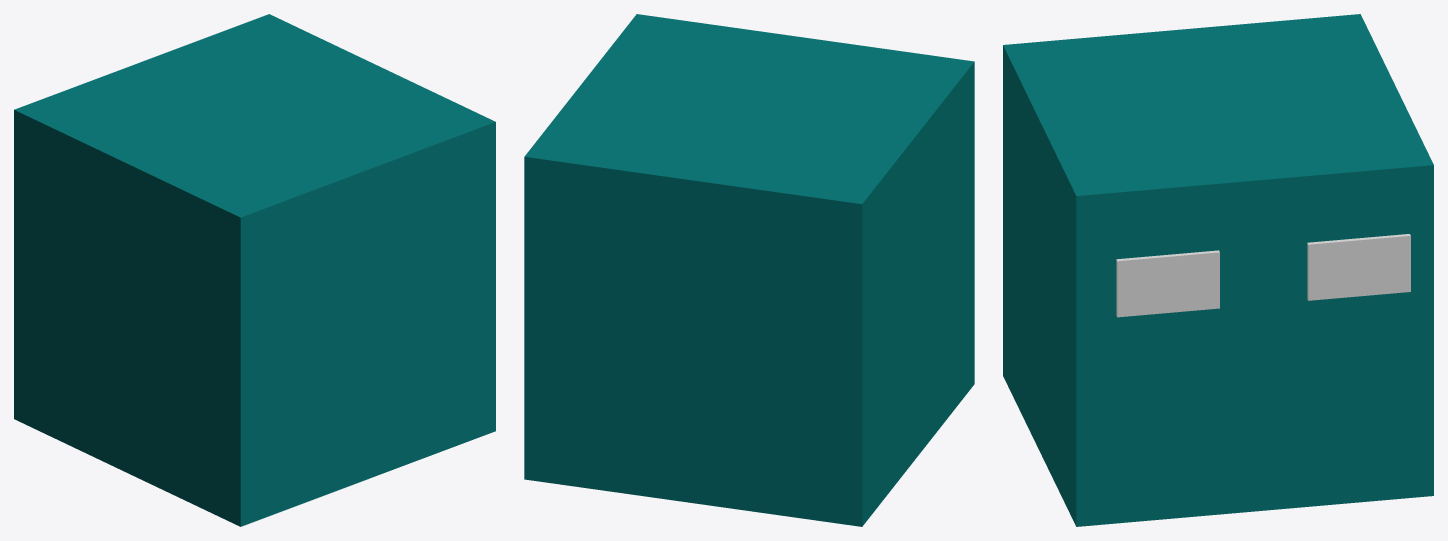
Rendered from Enemy.glb.
The picture shows the model from 3 angles, left to right: view 1: azimuth 30°, elevation 25°; view 2: azimuth 150°, elevation 25°; view 3: azimuth 270°, elevation 25°; orthographic projection. The views are drawn at different scales.
Parts seen in each view (by area): view 1: Cube; view 2: Cube; view 3: Cube, Cube.001, Cube.002.
Part boxes in pixels (left/top/right/bottom): Cube: left=14, top=14, right=495, bottom=526; Cube: left=524, top=14, right=974, bottom=526; Cube: left=1003, top=14, right=1433, bottom=526; Cube.001: left=1116, top=250, right=1219, bottom=317; Cube.002: left=1307, top=234, right=1410, bottom=300.
Size of the model in its own units: 0.8126 by 0.6883 by 0.8126.
